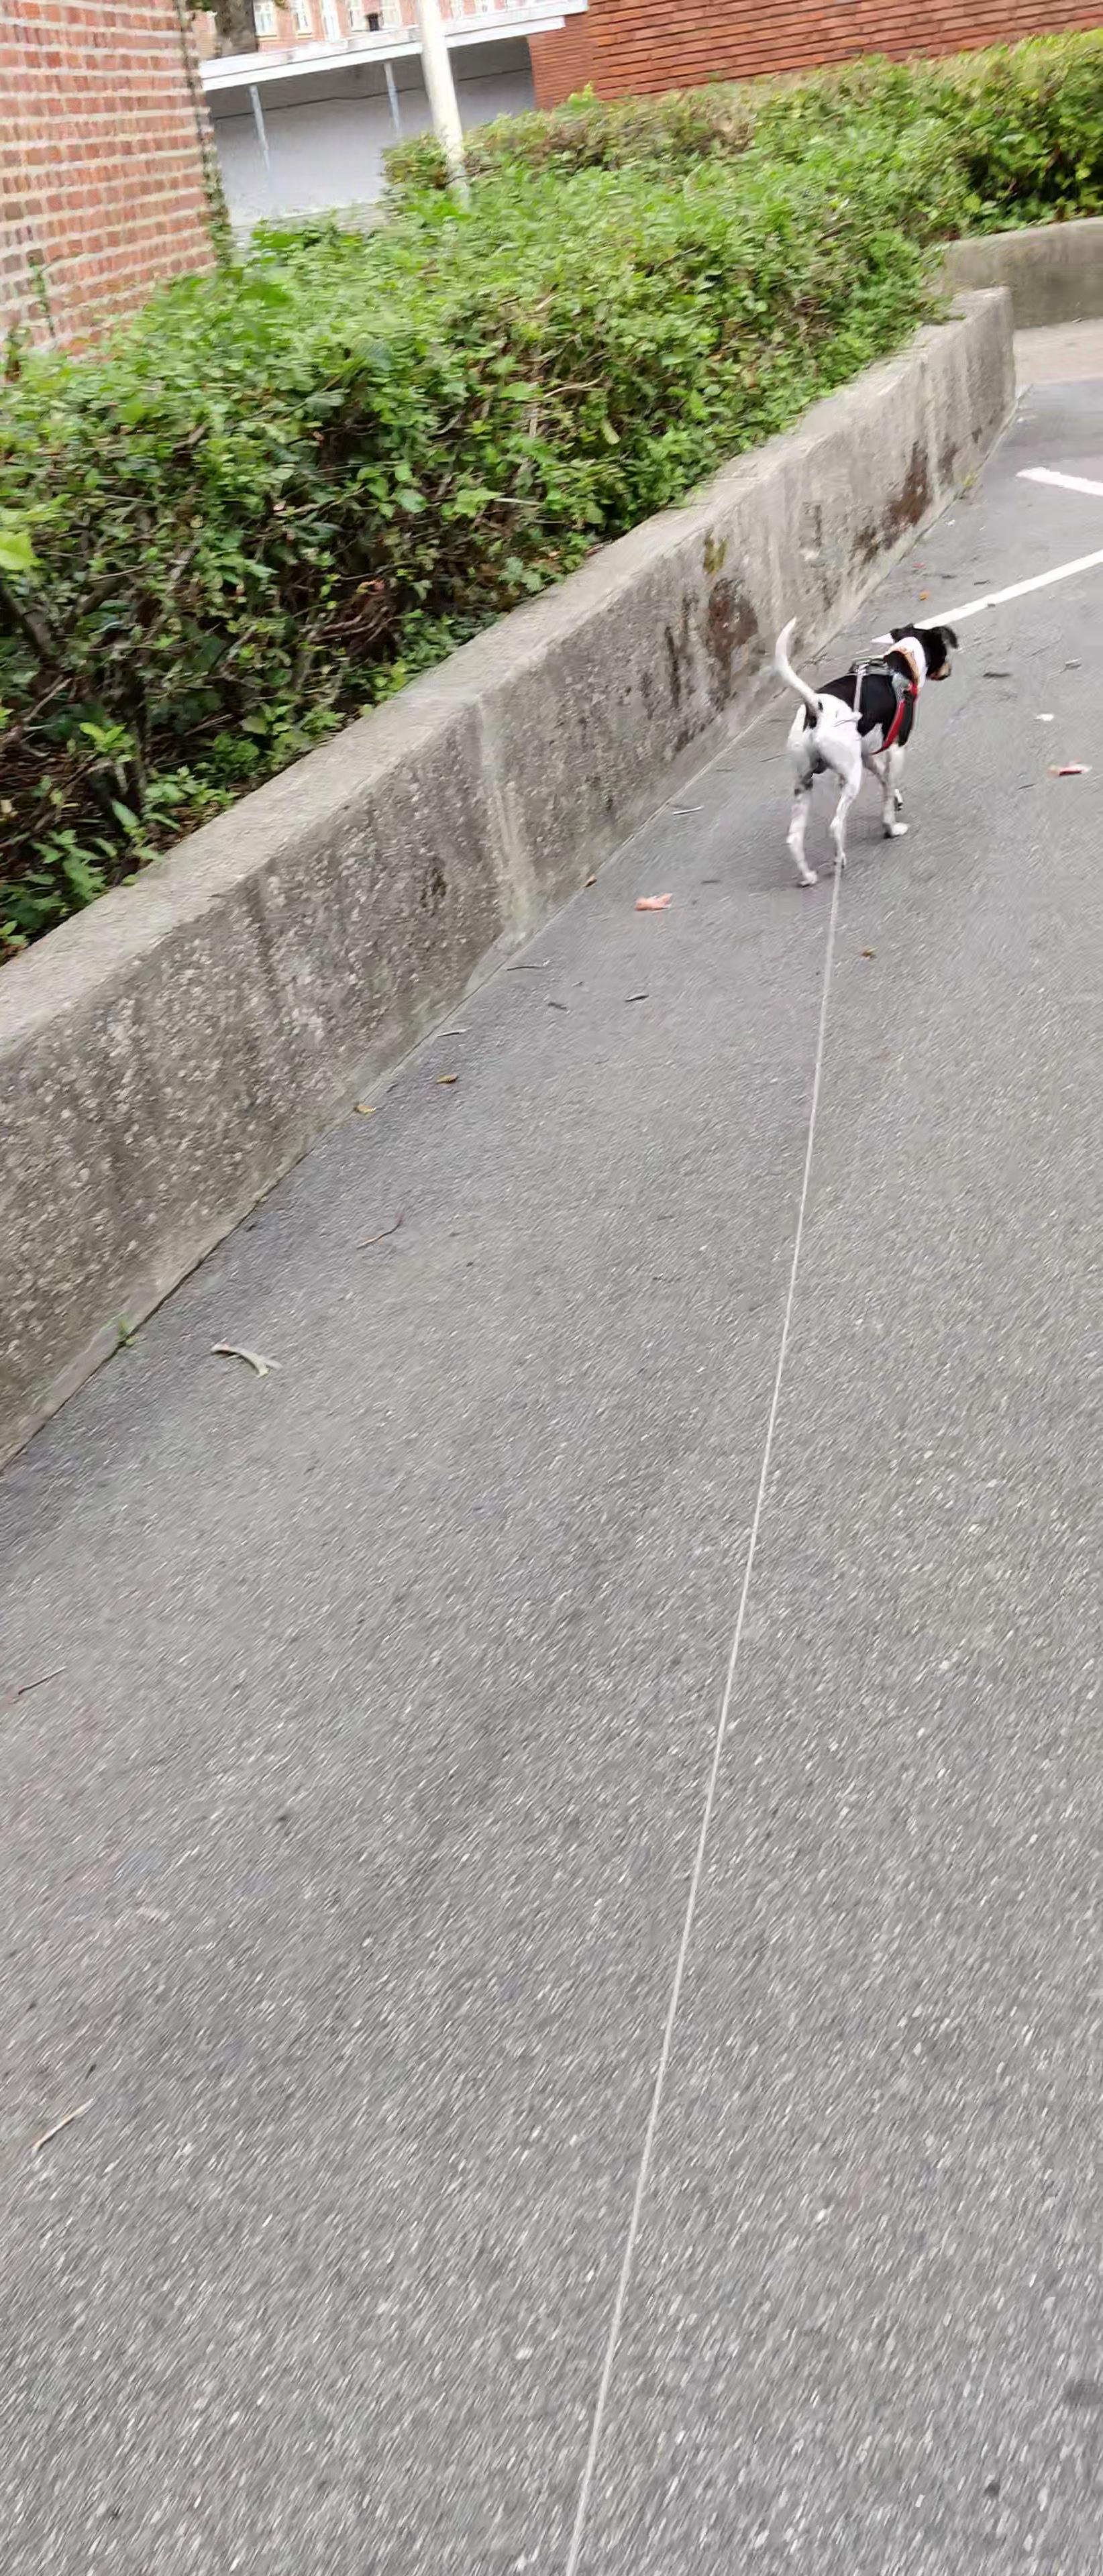Dog: (751, 613, 973, 904)
